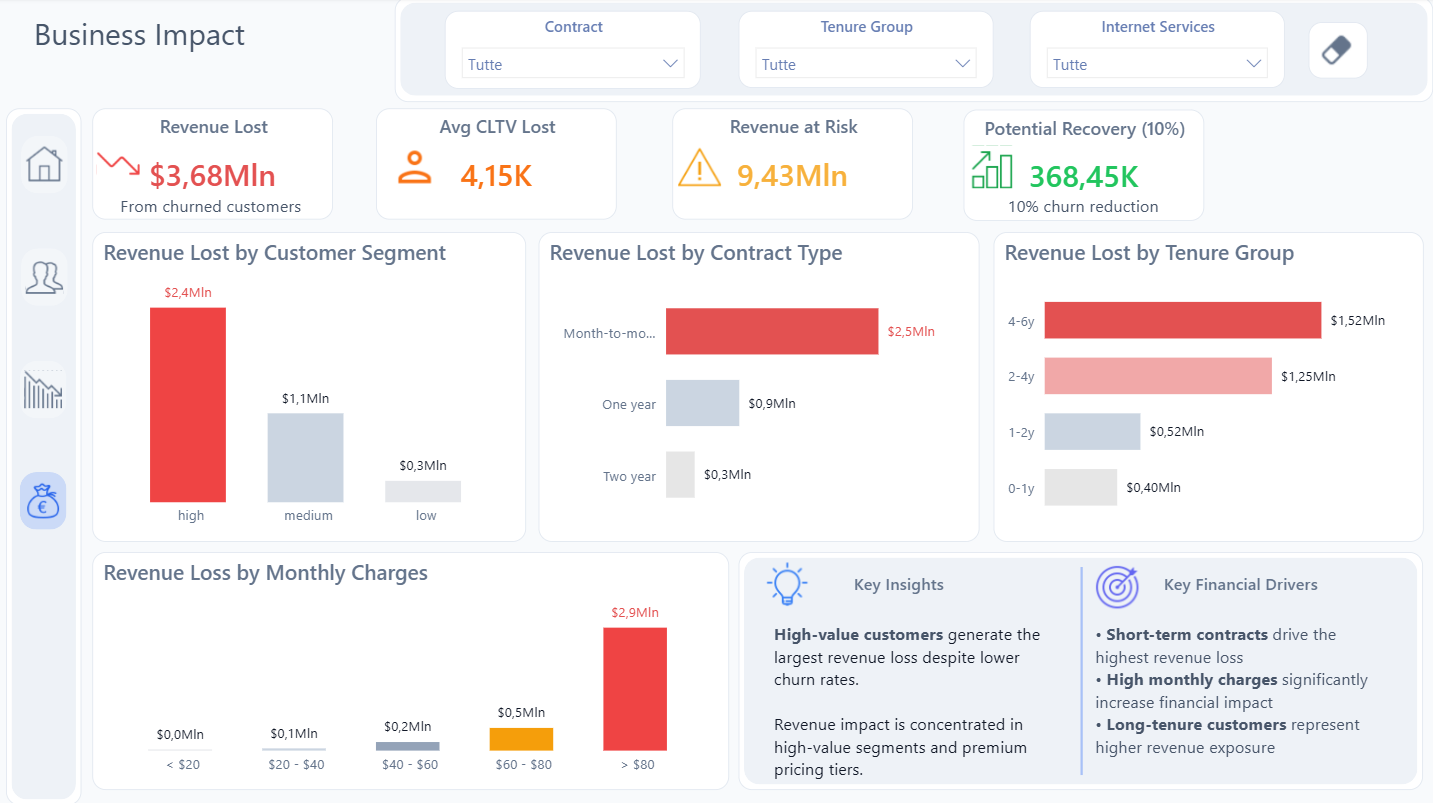

The dashboard page shown, as its layout file describes it:
{"tool":"powerbi","page":{"name":"Business Impact","canvas":[1280,720],"ordinal":3},"visuals":[{"type":"shape","box":[354.6,0,925.2,93.3],"z":0},{"type":"slicer","title":"Contract","fields":{"Values":["customer_churn.contract"]},"box":[400,12.3,228.2,69.9],"z":1000},{"type":"slicer","title":"Tenure Group","fields":{"Values":["customer_churn.tenure_group"]},"box":[660.7,12.3,227,68.7],"z":2000},{"type":"slicer","title":"Internet Services","fields":{"Values":["customer_churn.internet_service"]},"box":[920.3,12.3,227,68.7],"z":3000},{"type":"shape","box":[8.6,99.4,67.5,620.9],"z":4000},{"type":"actionButton","box":[1169.3,22.1,52.8,50.3],"z":5000},{"type":"textbox","box":[29.4,8.6,309.2,57.7],"z":6000},{"type":"card","title":"Revenue Lost","fields":{"Values":["Misure.total_lost_revenue"]},"box":[85.9,99.4,214.7,99.4],"z":7000},{"type":"card","title":"Avg CLTV Lost","fields":{"Values":["Misure.avg_cltv_churn"]},"box":[338.7,99.4,214.7,99.4],"z":8000},{"type":"card","title":"Revenue at Risk","fields":{"Values":["Misure.High Risk Revenue"]},"box":[602.5,99.4,214.7,99.4],"z":9000},{"type":"card","title":"Potential Recovery (10%)","fields":{"Values":["Misure.Potential Recovery"]},"box":[861.4,100.6,214.7,99.4],"z":10000},{"type":"columnChart","title":"Revenue Lost by Customer Segment","fields":{"Category":["customer_churn.customer_segment"],"Y":["Misure.total_lost_revenue"]},"box":[85.9,209.8,386.5,276.1],"z":11000},{"type":"barChart","title":"Revenue Lost by Contract Type","fields":{"Category":["customer_churn.contract"],"Y":["Misure.total_lost_revenue"]},"box":[483.4,209.8,392.6,276.1],"z":12000},{"type":"barChart","title":"Revenue Lost by Tenure Group","fields":{"Y":["Misure.total_lost_revenue"],"Category":["customer_churn.tenure_group"]},"box":[888.3,209.8,382.8,276.1],"z":13000},{"type":"actionButton","box":[863.8,127.6,49.1,46.6],"z":14000},{"type":"columnChart","title":"Revenue Loss by Monthly Charges","fields":{"Y":["Misure.total_lost_revenue"],"Category":["customer_churn.Monthly Charges Band"]},"box":[85.9,494.5,566.9,212.3],"z":15000},{"type":"actionButton","box":[603.7,127.6,49.1,46.6],"z":16000},{"type":"actionButton","box":[349.7,127.6,49.1,46.6],"z":17000},{"type":"actionButton","box":[85.9,127.6,49.1,46.6],"z":18000},{"type":"shape","box":[661.4,494.5,609.8,212.3],"z":19000},{"type":"shape","box":[960.7,508,12.3,185.3],"z":20000},{"type":"textbox","box":[747.2,508,116.6,39.3],"z":21000},{"type":"textbox","box":[1023.3,508,198.8,39.3],"z":22000},{"type":"actionButton","box":[679.8,498.2,49.1,49.1],"z":23000},{"type":"actionButton","box":[974.2,498.2,49.1,54],"z":24000},{"type":"textbox","box":[688.3,552.2,263.8,154.6],"z":25000},{"type":"textbox","box":[974.2,552.2,263.8,154.6],"z":26000},{"type":"textbox","box":[105.5,170.6,184.1,39.3],"z":27000},{"type":"textbox","box":[895.7,170.6,184.1,39.3],"z":28000},{"type":"actionButton","box":[22.1,123.9,41.7,51.5],"z":29000},{"type":"actionButton","box":[22.1,223.7,41.7,51.5],"z":30000},{"type":"actionButton","box":[20.9,423.3,41.7,51.5],"z":31000},{"type":"actionButton","box":[20.9,323.5,41.7,51.5],"z":32000}]}

Visuals, with their boxes in screenshot pixels (x1, y1, x2, y2), scaled from the page's 1280x720 canvas onto the 1433x803 screenshot:
shape: bbox(397, 0, 1432, 104)
"Contract" slicer: bbox(448, 14, 703, 92)
"Tenure Group" slicer: bbox(740, 14, 994, 90)
"Internet Services" slicer: bbox(1030, 14, 1284, 90)
shape: bbox(10, 111, 85, 802)
actionButton: bbox(1309, 25, 1368, 81)
textbox: bbox(33, 10, 379, 74)
"Revenue Lost" card: bbox(96, 111, 337, 222)
"Avg CLTV Lost" card: bbox(379, 111, 620, 222)
"Revenue at Risk" card: bbox(675, 111, 915, 222)
"Potential Recovery (10%)" card: bbox(964, 112, 1205, 223)
"Revenue Lost by Customer Segment" columnChart: bbox(96, 234, 529, 542)
"Revenue Lost by Contract Type" barChart: bbox(541, 234, 981, 542)
"Revenue Lost by Tenure Group" barChart: bbox(994, 234, 1423, 542)
actionButton: bbox(967, 142, 1022, 194)
"Revenue Loss by Monthly Charges" columnChart: bbox(96, 552, 731, 788)
actionButton: bbox(676, 142, 731, 194)
actionButton: bbox(392, 142, 446, 194)
actionButton: bbox(96, 142, 151, 194)
shape: bbox(740, 552, 1423, 788)
shape: bbox(1076, 567, 1089, 773)
textbox: bbox(837, 567, 967, 610)
textbox: bbox(1146, 567, 1368, 610)
actionButton: bbox(761, 556, 816, 610)
actionButton: bbox(1091, 556, 1146, 616)
textbox: bbox(771, 616, 1066, 788)
textbox: bbox(1091, 616, 1386, 788)
textbox: bbox(118, 190, 324, 234)
textbox: bbox(1003, 190, 1209, 234)
actionButton: bbox(25, 138, 71, 196)
actionButton: bbox(25, 249, 71, 307)
actionButton: bbox(23, 472, 70, 530)
actionButton: bbox(23, 361, 70, 418)
